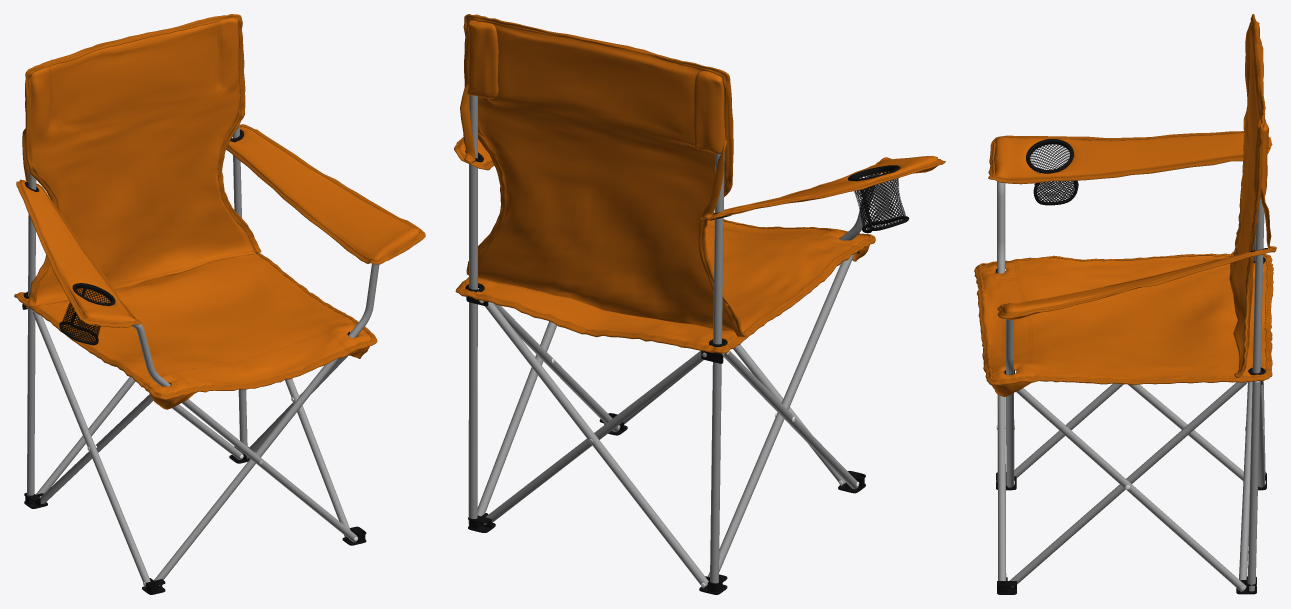
Rendered from CampingChair.glb.
The picture shows the model from 3 angles, left to right: view 1: azimuth 30°, elevation 25°; view 2: azimuth 150°, elevation 25°; view 3: azimuth 270°, elevation 25°; orthographic projection. The views are drawn at different scales.
Parts seen in each view (by area): view 1: 14678803045_Base.001, 14678803045_Grid.001; view 2: 14678803045_Base.001, 14678803045_Grid.001; view 3: 14678803045_Base.001, 14678803045_Grid.001.
Boxes of the visible parts, bbox=[...] form: 14678803045_Base.001: bbox=[14, 14, 425, 594]; 14678803045_Grid.001: bbox=[61, 288, 109, 342]; 14678803045_Base.001: bbox=[454, 14, 945, 594]; 14678803045_Grid.001: bbox=[854, 171, 906, 230]; 14678803045_Base.001: bbox=[974, 14, 1276, 594]; 14678803045_Grid.001: bbox=[1030, 144, 1076, 202].
Bounding box in the file's own units: 0.6818 × 0.8285 × 0.4814.
Materials: 2 (2 with a texture image).
